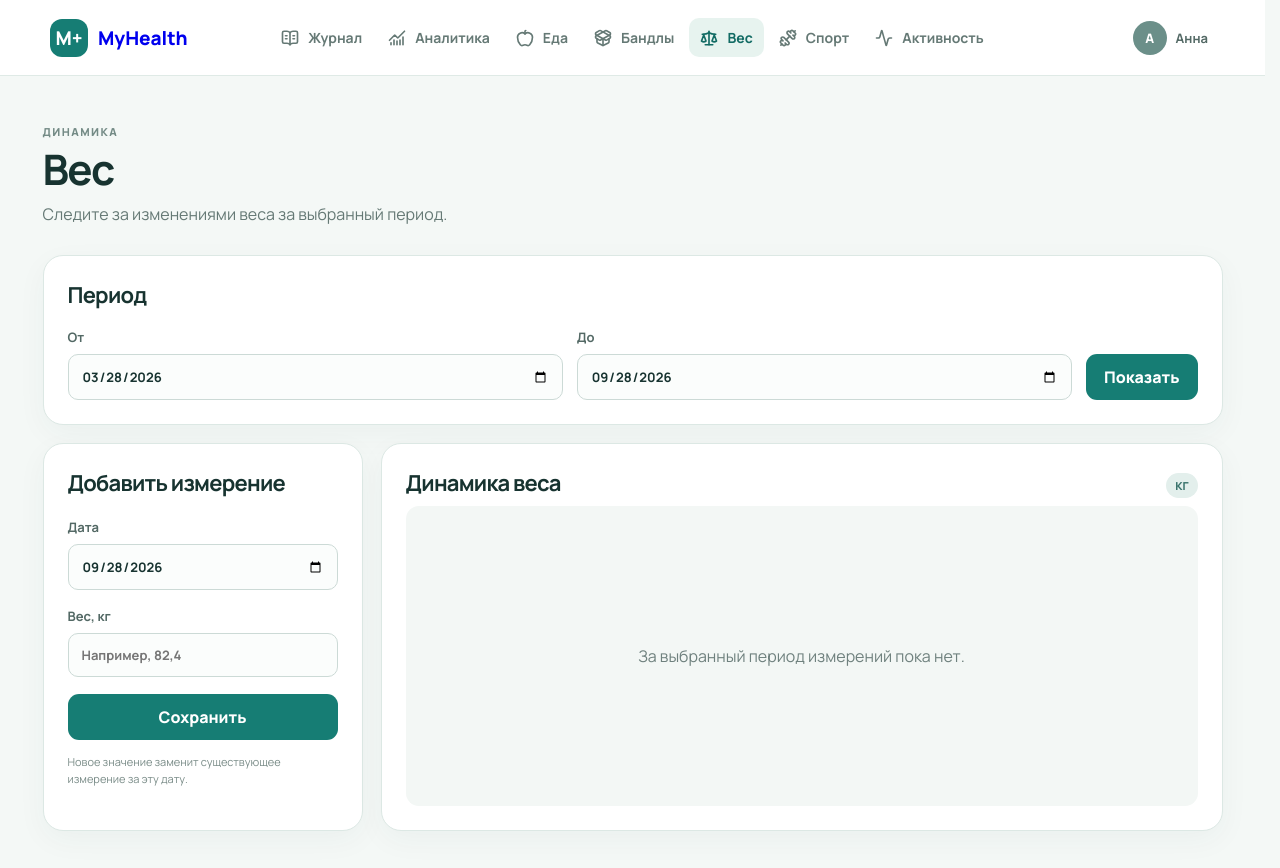
Test: MyHealth SPA › сохраняет числовое значение веса и обновляет список
Type "2026-09-15" into the date field labelled "Дата".
click(202, 567); type("2026-09-15")  # box [68,544,338,590]
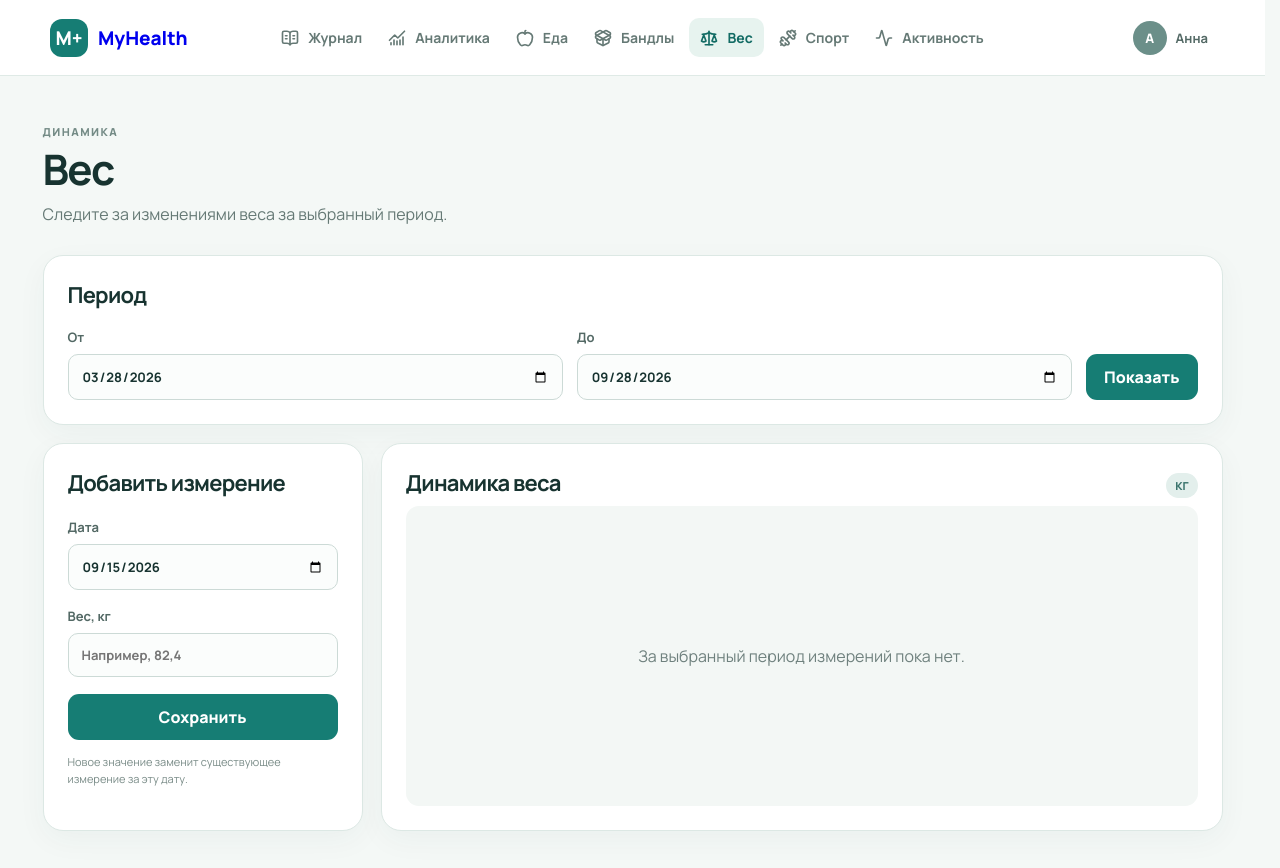
Type "вес 82,4 кг" into the field labelled "Вес, кг".
click(202, 655); type("вес 82,4 кг")  # box [68,633,338,677]
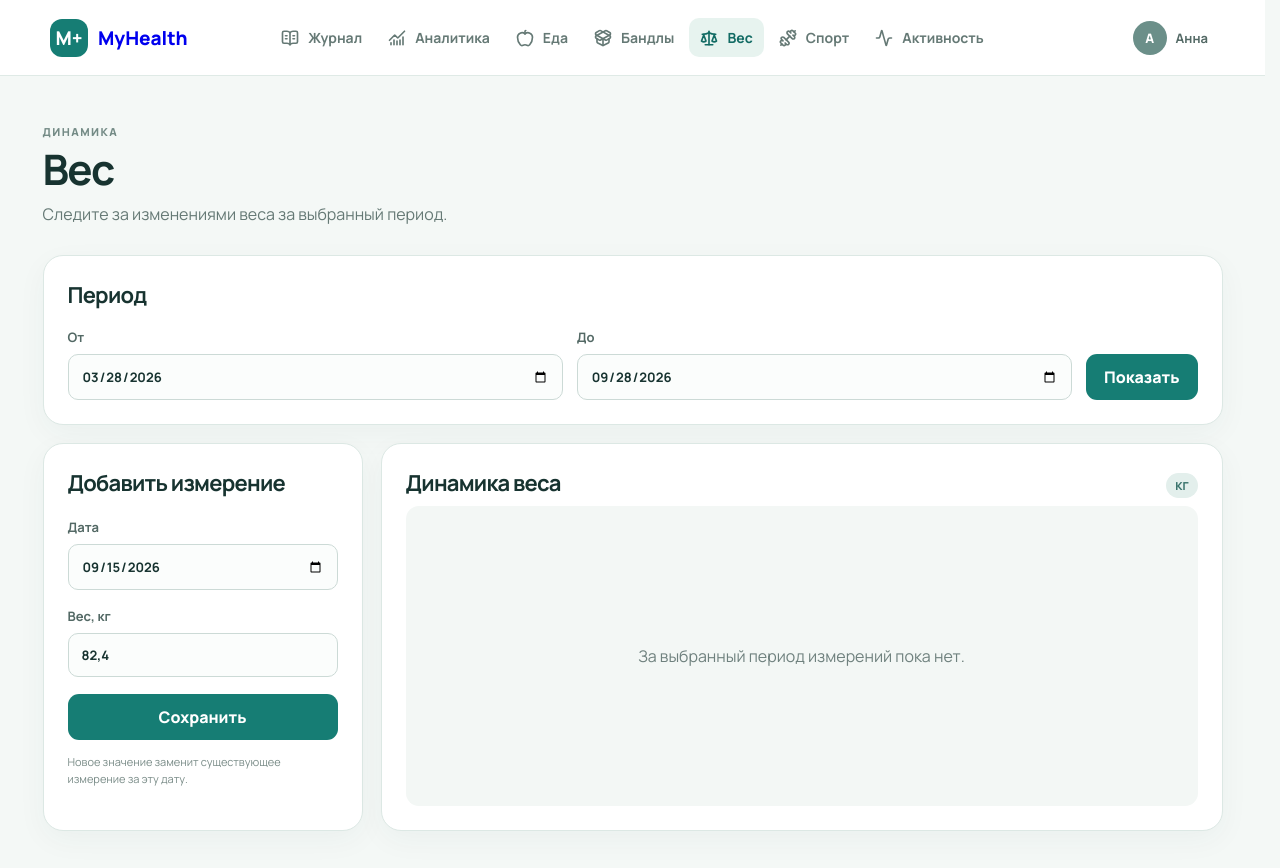
Expected: the field labelled "Вес, кг" holds "82,4", [68,633,338,677]
Click the button "Сохранить".
click(202, 717)  # box [68,694,338,740]
(page scrolled)
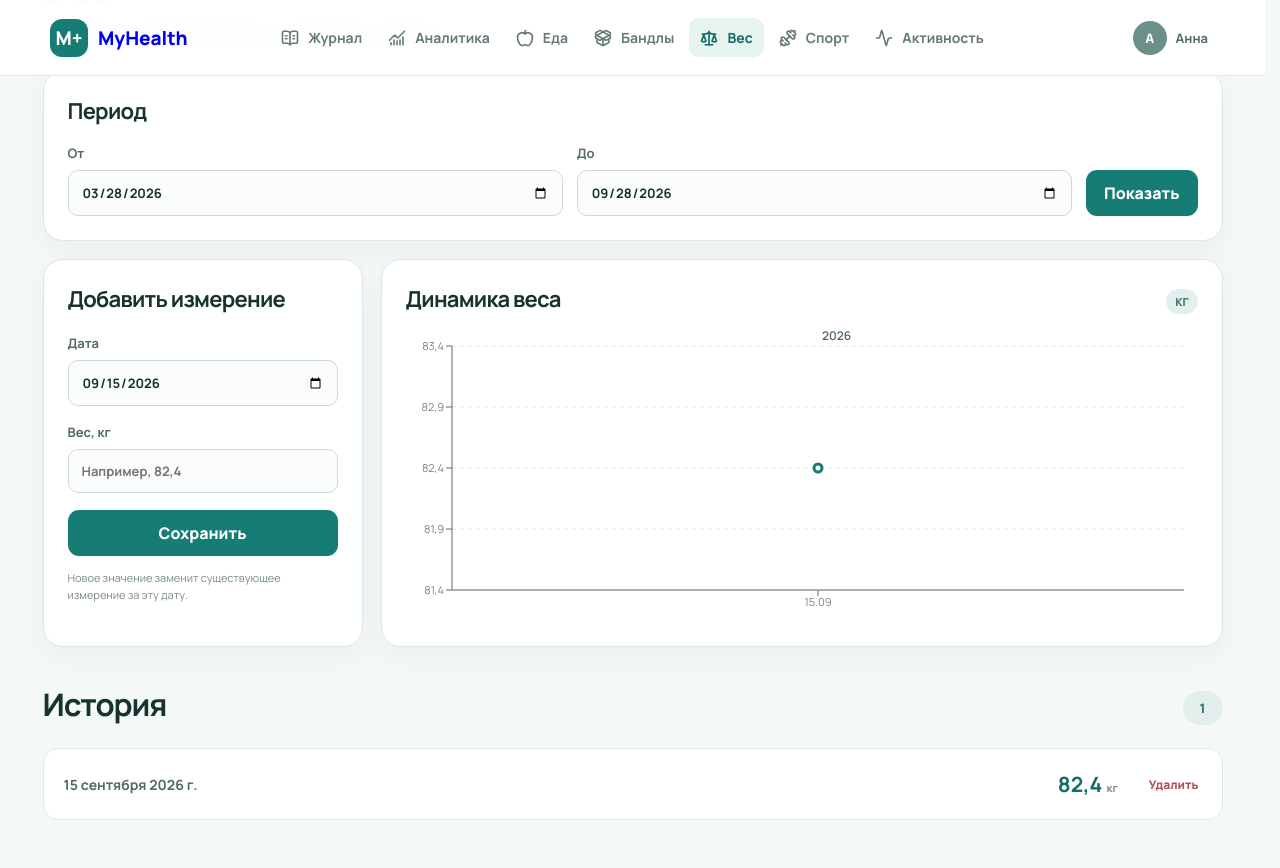
Expected: the text named "Найдено измерений: 1" is shown, [1182,691,1222,725]
